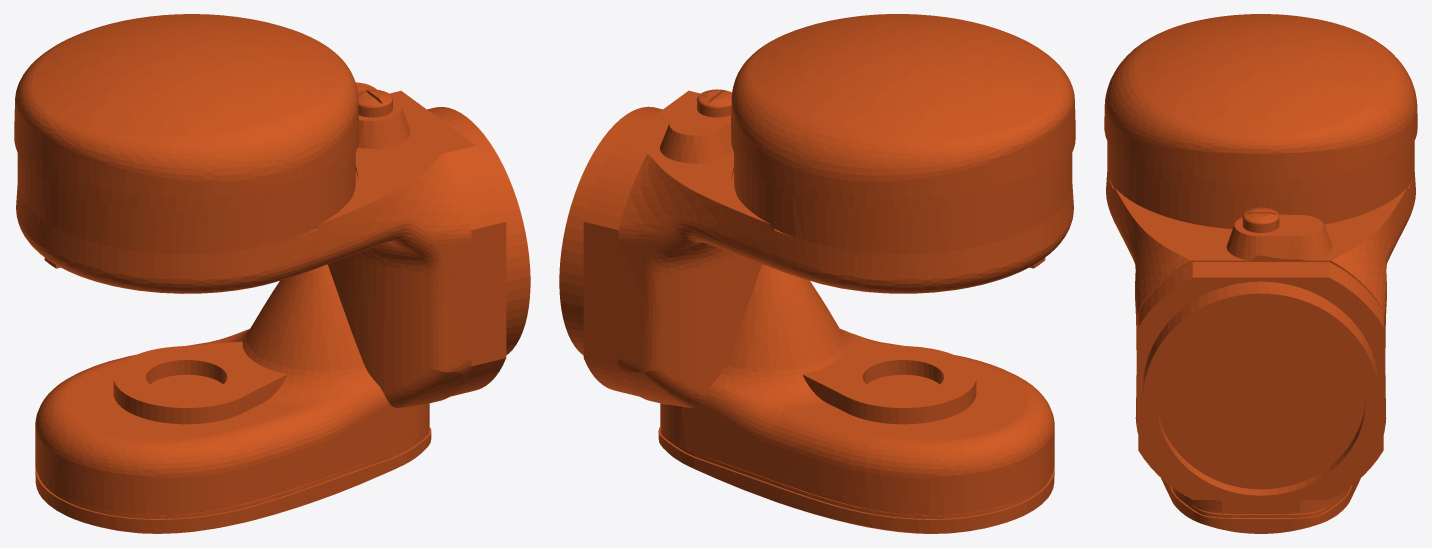
The model's file is like_kr240r2900_link_5_visuals_link_5_Scene_mesh.obj.
3 renders of one model, left to right at view 1: azimuth 30°, elevation 25°; view 2: azimuth 150°, elevation 25°; view 3: azimuth 270°, elevation 25°, orthographic. The views are drawn at different scales.
Bounding box in the file's own units: 0.3876 × 0.3907 × 0.2703.
